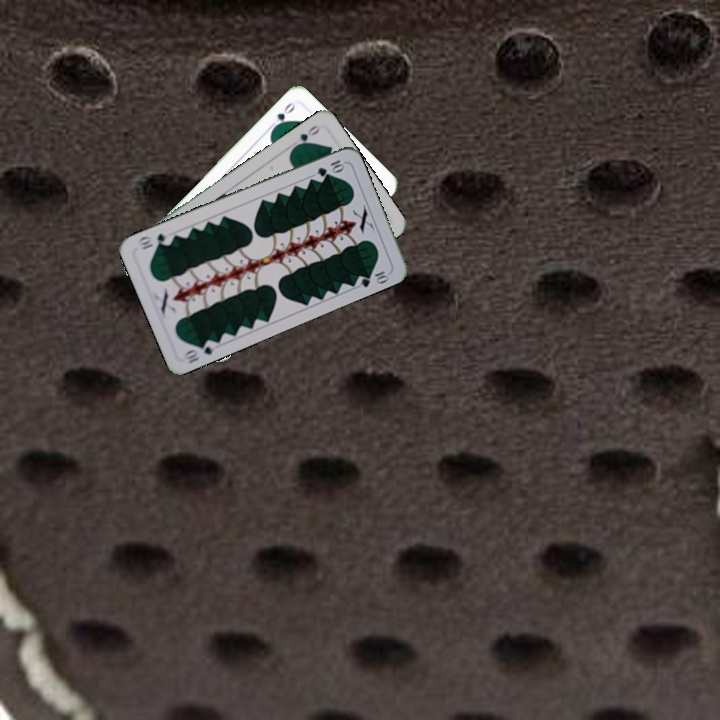G10: (179, 336, 220, 366), (313, 156, 347, 179)
GO: (265, 98, 298, 133), (289, 121, 322, 152)
